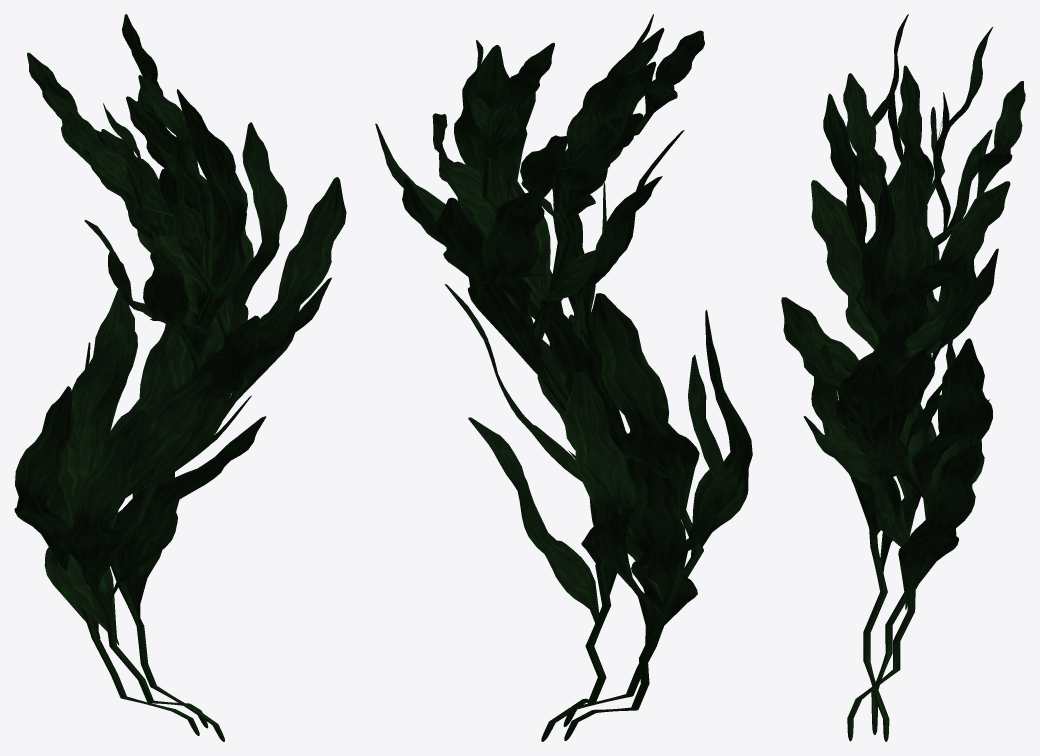
Rendered from wiggle_seaweed.glb.
3 views of the same model, side by side, from view 1: azimuth 30°, elevation 25°; view 2: azimuth 150°, elevation 25°; view 3: azimuth 270°, elevation 25° (orthographic). The views are drawn at different scales.
Parts seen in each view (by area): view 1: WiggleSeaweed; view 2: WiggleSeaweed; view 3: WiggleSeaweed.
Part boxes in pixels (x1,y1,x2,y2): WiggleSeaweed: [14, 14, 346, 741]; WiggleSeaweed: [375, 14, 752, 741]; WiggleSeaweed: [781, 14, 1025, 741].
Size of the model in its own units: 0.9791 by 2 by 0.6754.
1 material, 1 textured.
